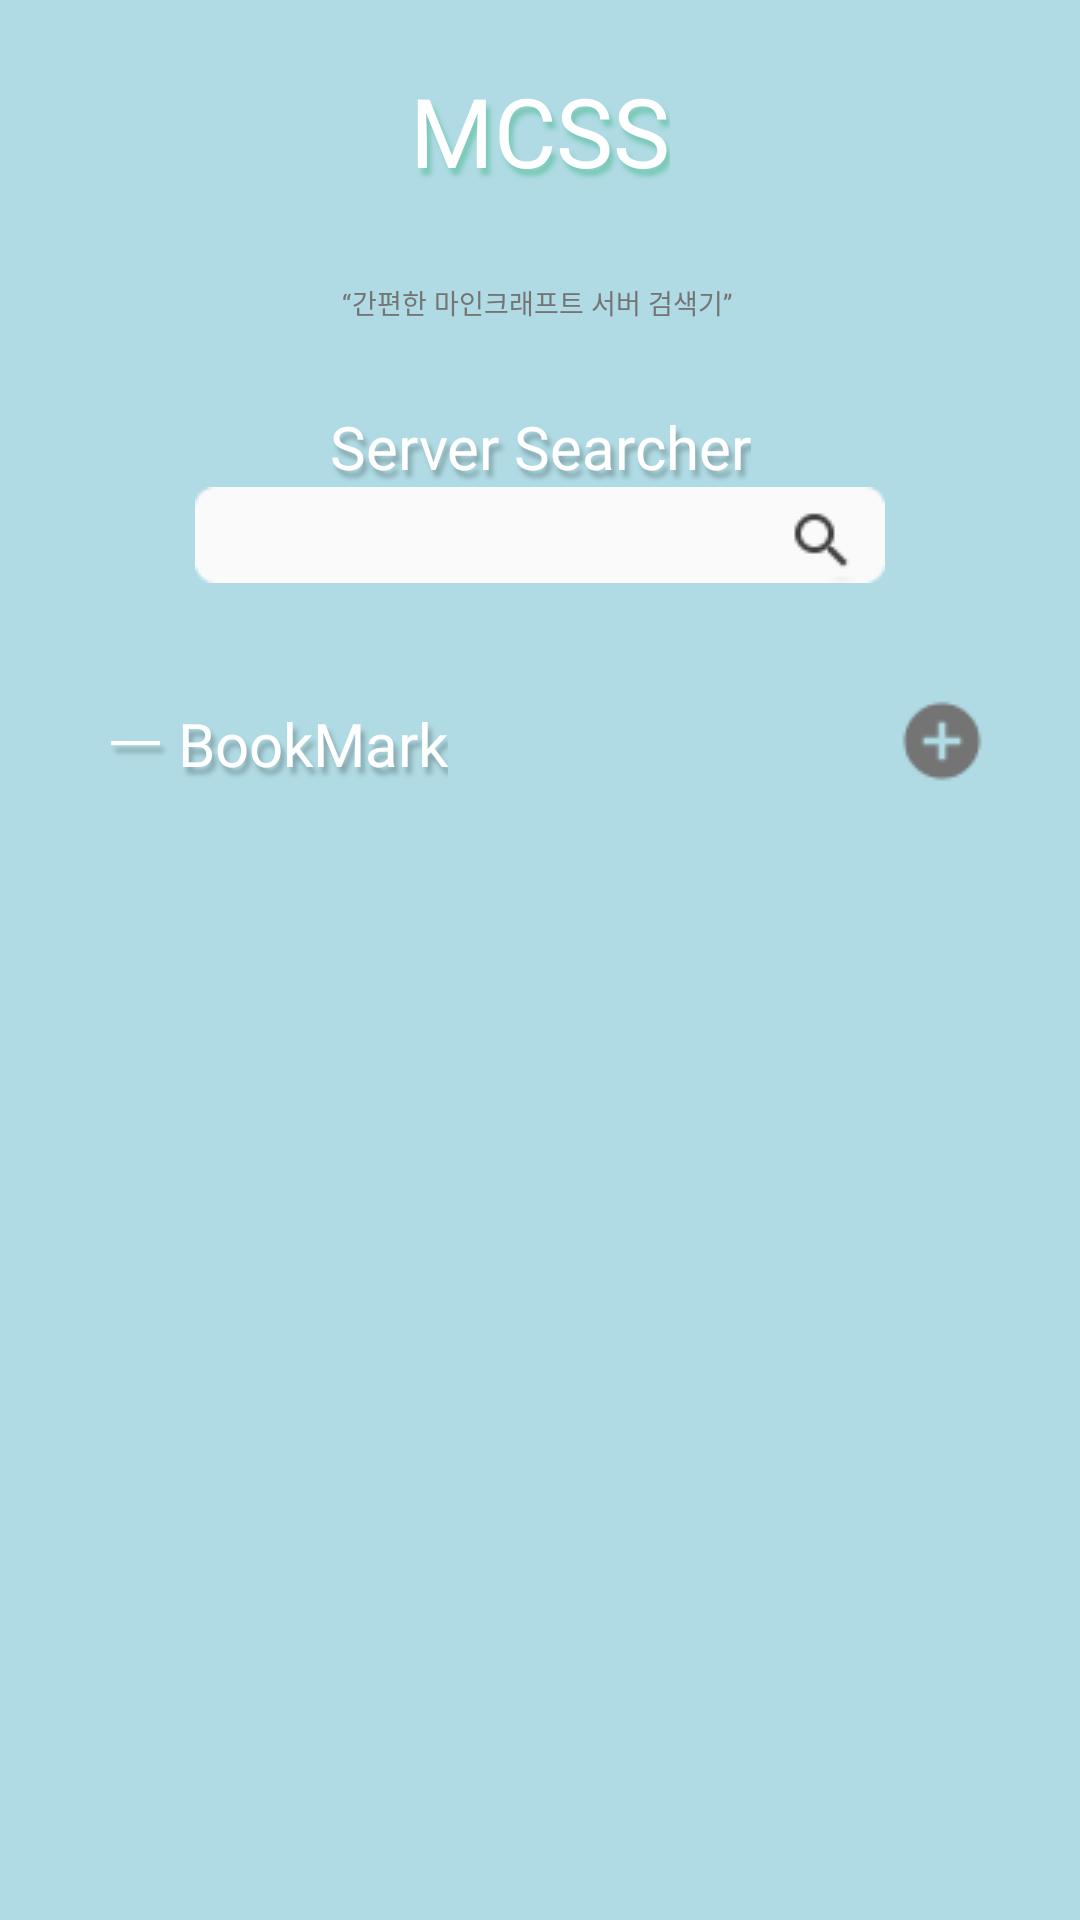

Where to tap for icons on this 1080px×1920px app screen, as (x,y):
add circle: (942,741)
